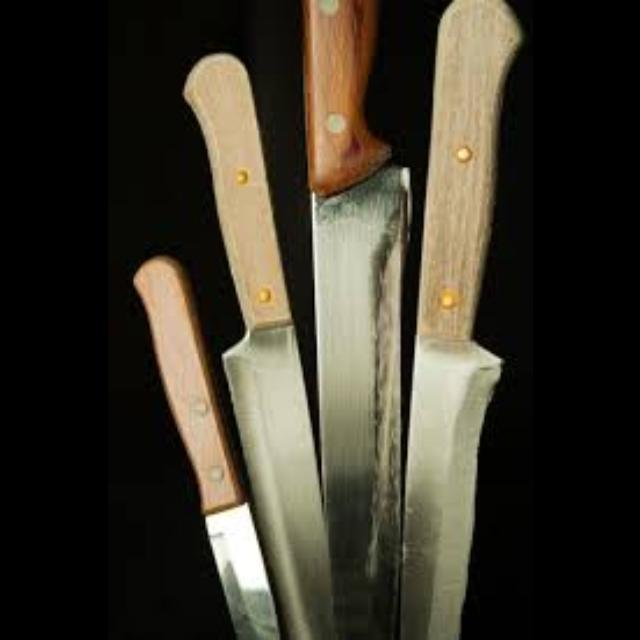Knife: (179, 51, 337, 637), (396, 0, 524, 638), (296, 0, 410, 638), (130, 252, 282, 638)
